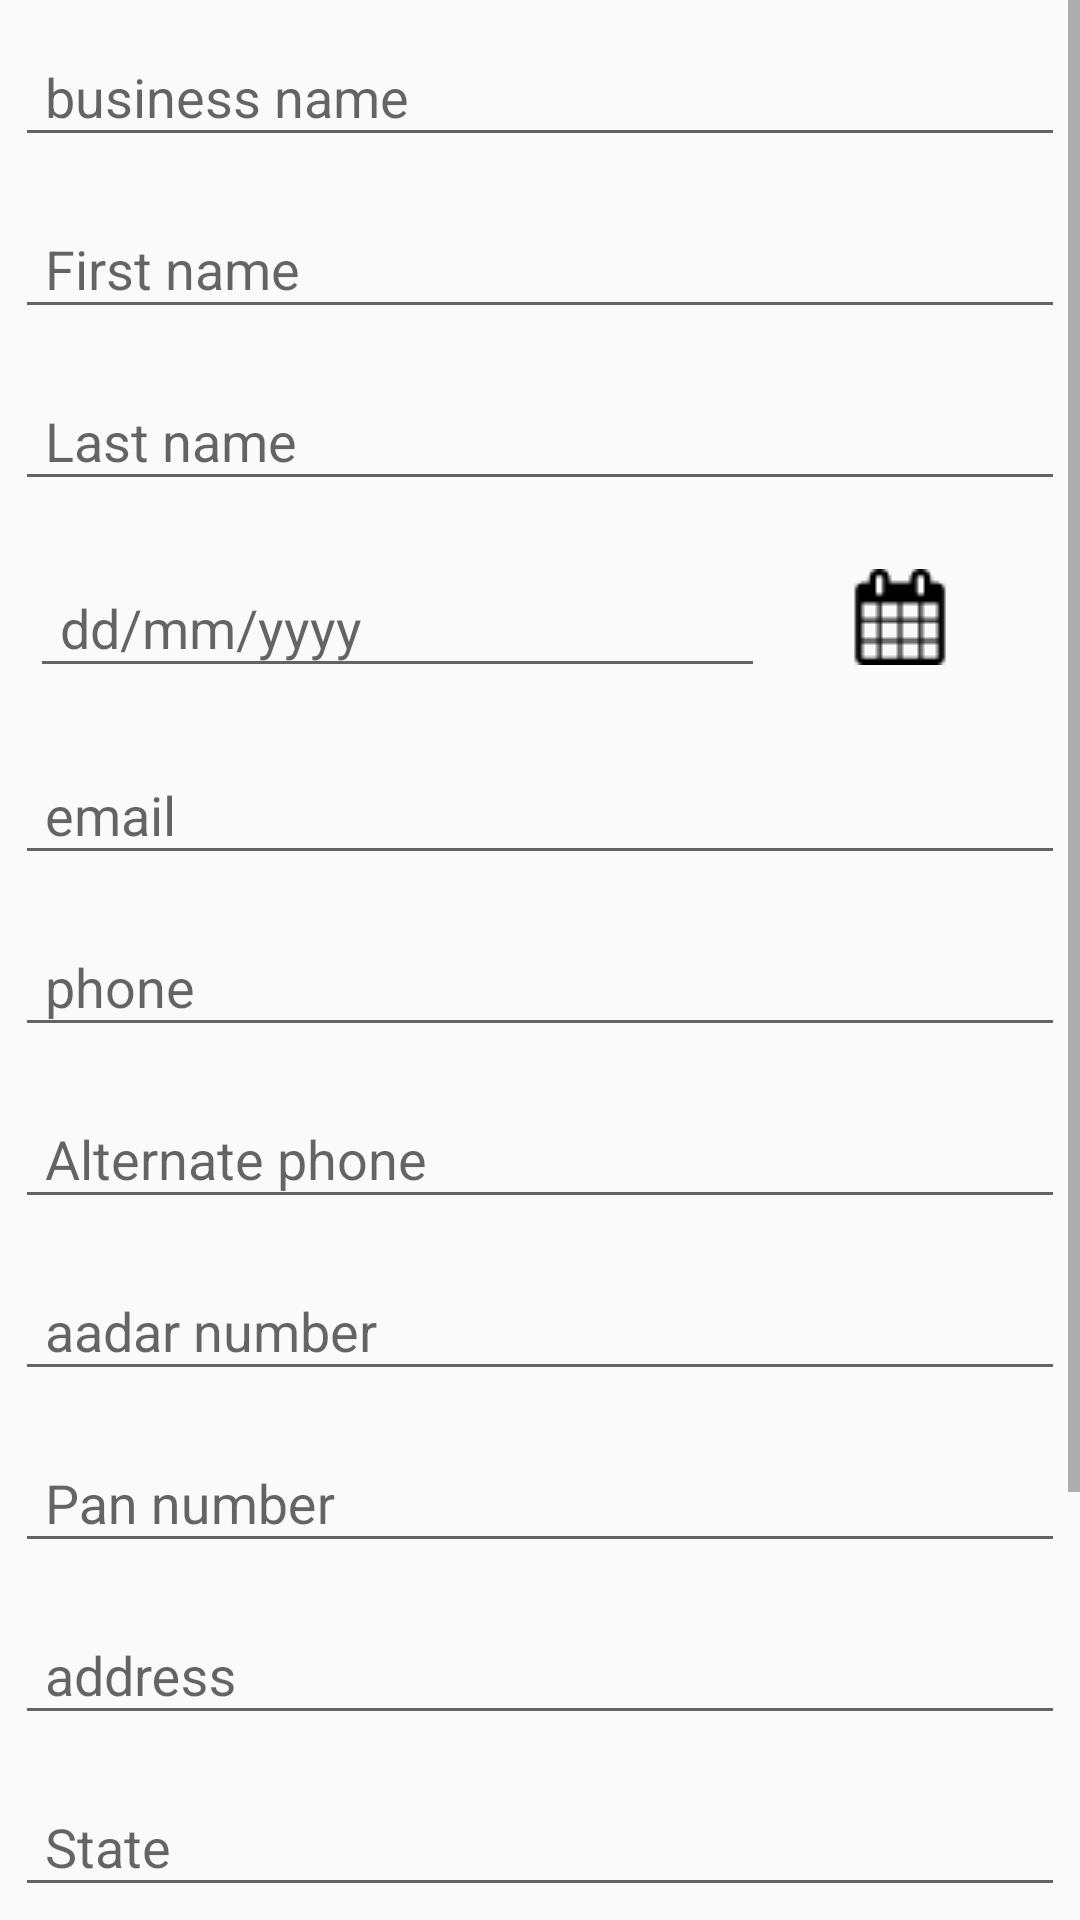

Named icons in this screenshot (1080w x 1920h) and their bounding boxes, (x1, y1, x2, y2):
calendar: (854, 569, 946, 665)
